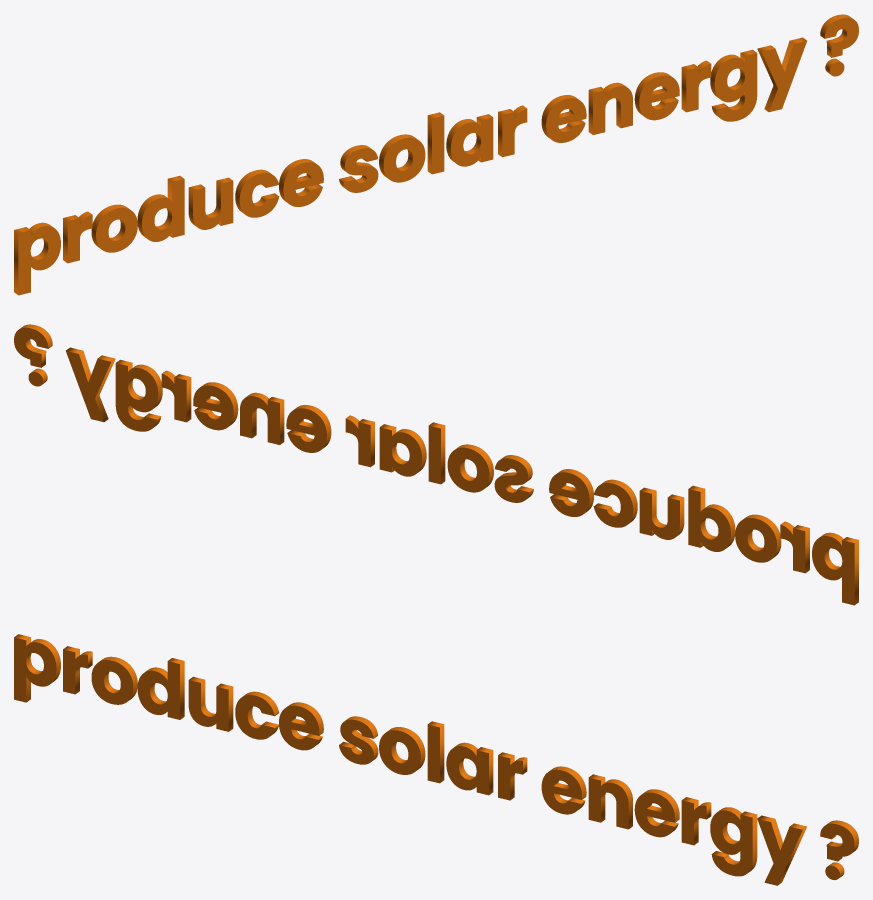
File: Soru1.4.gltf
3 renders of one model, top to bottom at view 1: azimuth 30°, elevation 25°; view 2: azimuth 150°, elevation 25°; view 3: azimuth 330°, elevation 25°, orthographic.
Visible parts, largest first — view 1: Text.004; view 2: Text.004; view 3: Text.004.
Boxes of the visible parts, left/top/right/bottom form: Text.004: left=14, top=14, right=858, bottom=295; Text.004: left=14, top=324, right=858, bottom=605; Text.004: left=14, top=634, right=858, bottom=885.
Bounding box in the file's own units: 0.4703 × 0.0411 × 0.00435.
